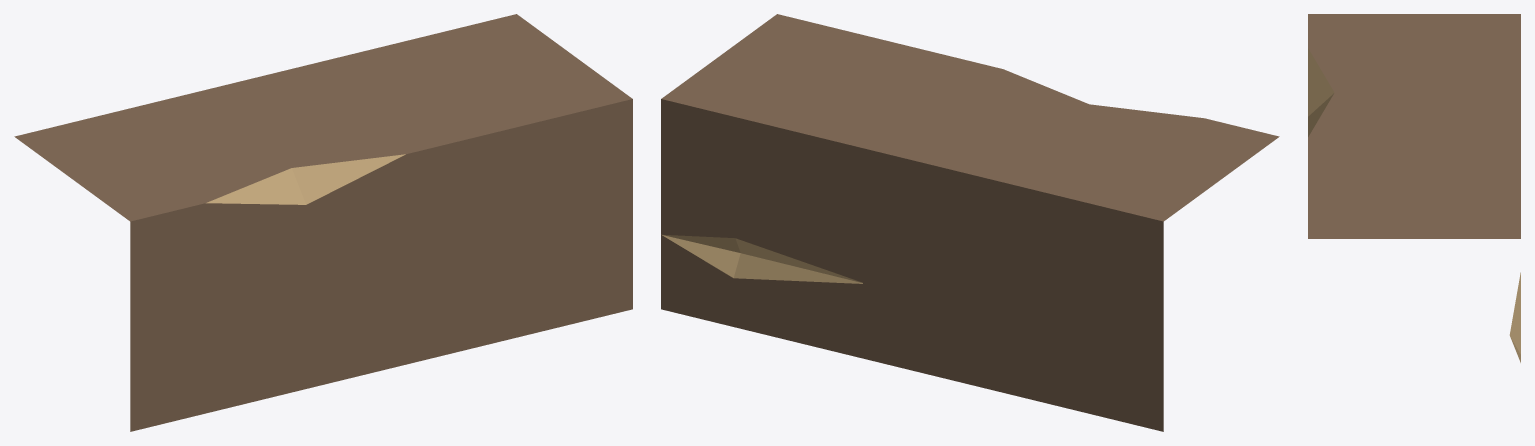
Rendered from Cave_Prop_Support_Ceiling_Beam_3.glb.
3 renders of one model, left to right at view 1: azimuth 30°, elevation 25°; view 2: azimuth 150°, elevation 25°; view 3: azimuth 270°, elevation 25°, orthographic. The views are drawn at different scales.
Parts seen in each view (by area): view 1: Cave_Prop_Support_Ceiling_Beam_3; view 2: Cave_Prop_Support_Ceiling_Beam_3; view 3: Cave_Prop_Support_Ceiling_Beam_3.
Boxes of the visible parts, box(x1,y1,x2,y2) form: Cave_Prop_Support_Ceiling_Beam_3: box(14, 14, 632, 431); Cave_Prop_Support_Ceiling_Beam_3: box(661, 14, 1279, 431); Cave_Prop_Support_Ceiling_Beam_3: box(1308, 14, 1520, 362).
Bounding box in the file's own units: 1 × 0.4 × 0.4.
